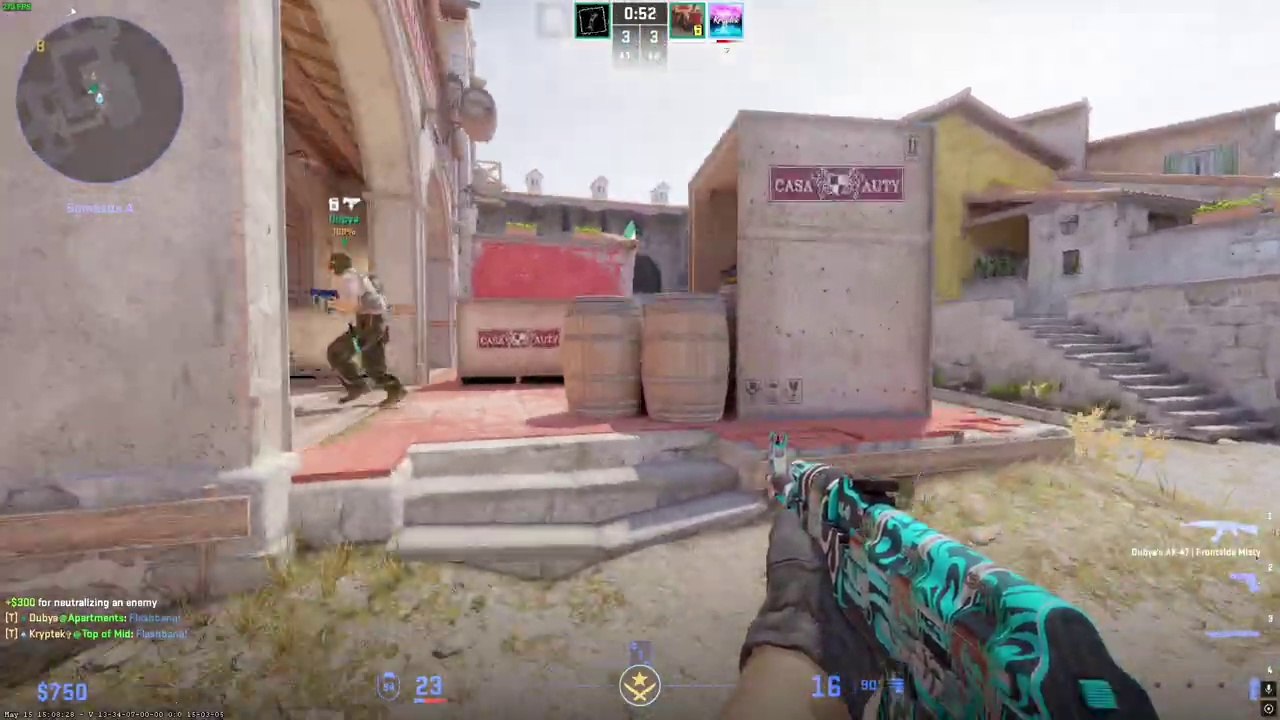Terrorist: (319, 249, 404, 411)
